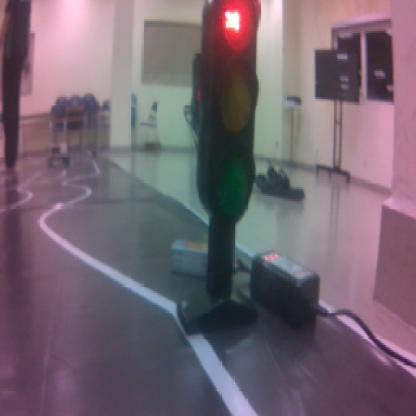building map: (222, 0, 254, 50)
